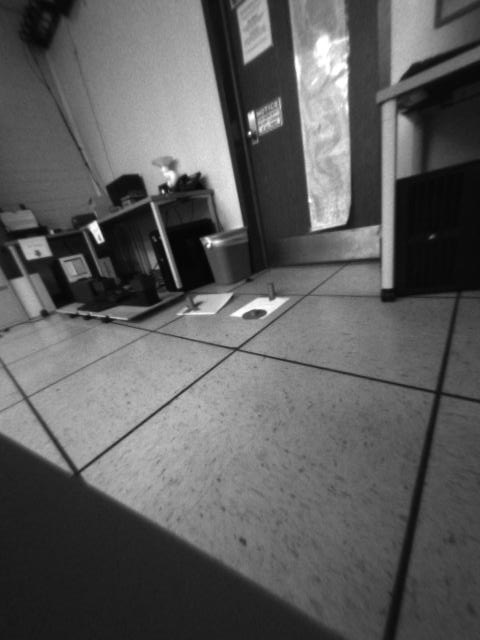X: (260, 280, 282, 301), (179, 294, 203, 312)
